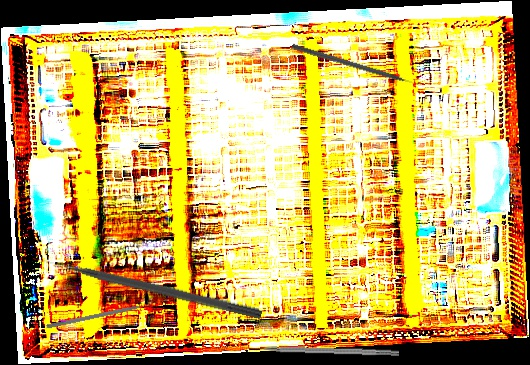Chopper: (45, 301, 158, 335)
Hook Surgical: (290, 42, 426, 91), (239, 343, 400, 357)
Pusher: (41, 252, 264, 321)
